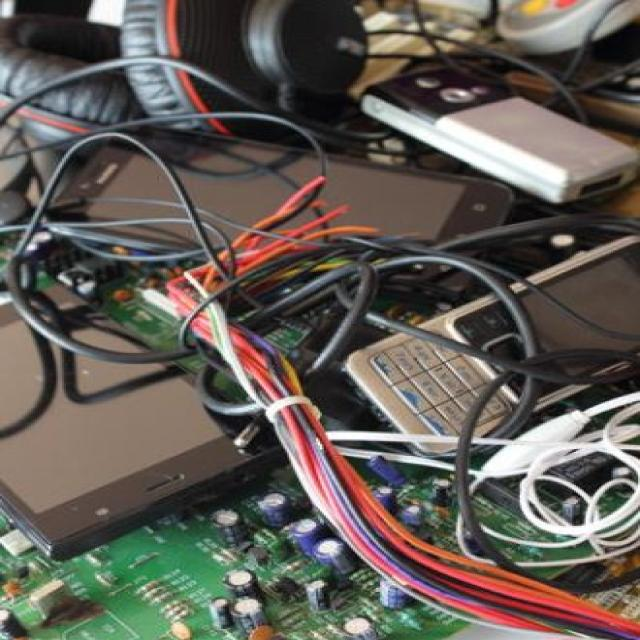electronic: (296, 210, 640, 587)
